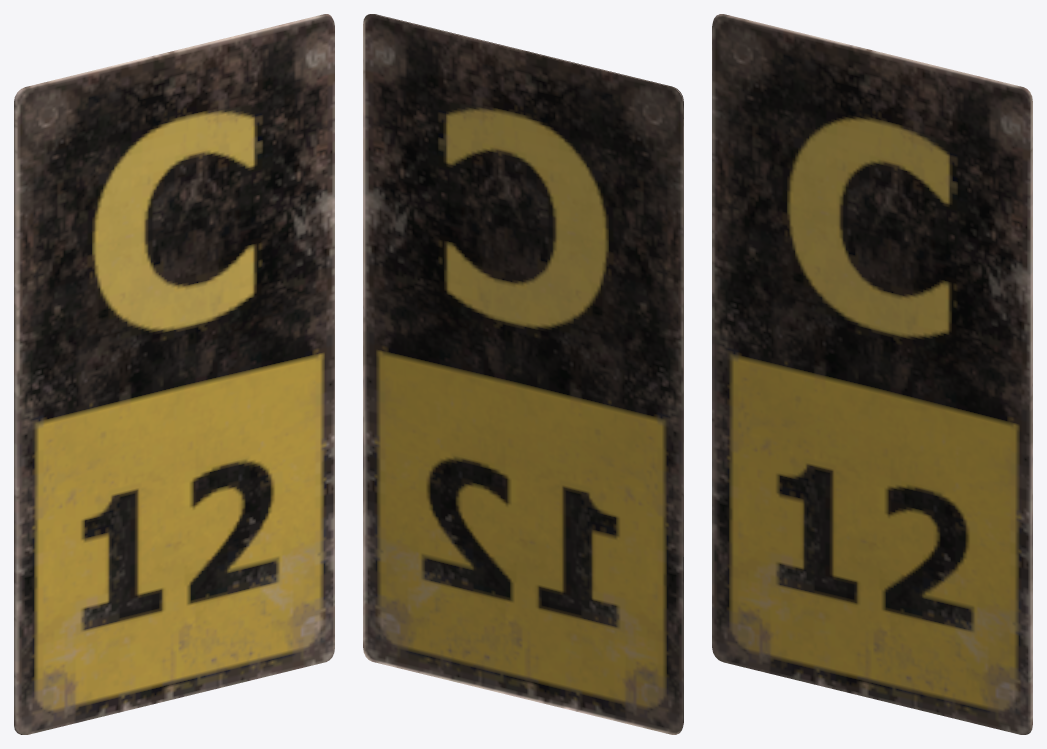
File: SM_Sign_02e.glb
The picture shows the model from 3 angles, left to right: view 1: azimuth 30°, elevation 25°; view 2: azimuth 150°, elevation 25°; view 3: azimuth 330°, elevation 25°; orthographic projection.
Parts seen in each view (by area): view 1: SM_Sign_02e; view 2: SM_Sign_02e; view 3: SM_Sign_02e.
Boxes of the visible parts, x1,y1,x2,y2 form: SM_Sign_02e: [14, 14, 334, 734]; SM_Sign_02e: [363, 14, 683, 734]; SM_Sign_02e: [712, 14, 1032, 734].
Size of the model in its own units: 0.1994 by 0.3859 by 0.00222.
1 material, 1 textured.
